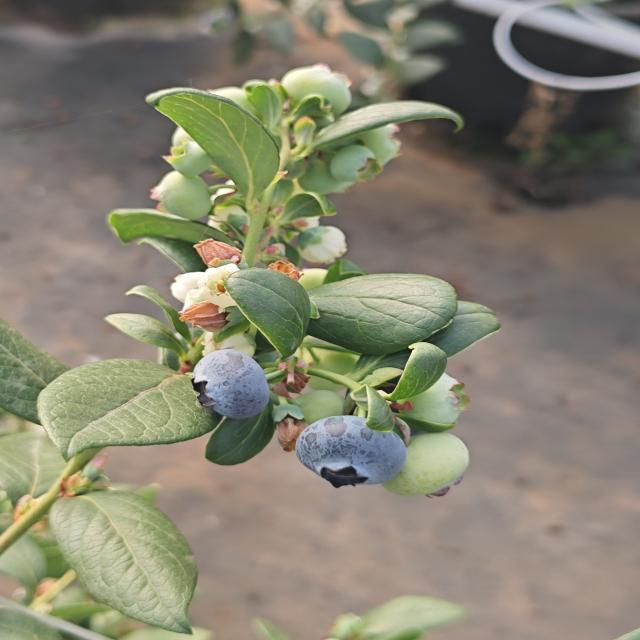ripe: (289, 414, 407, 486), (189, 348, 274, 424)
